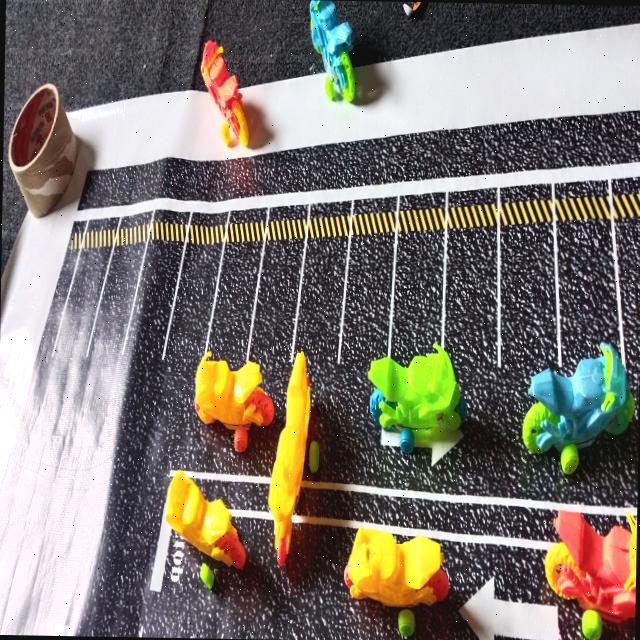bikes: (522, 342, 634, 474), (545, 510, 637, 640), (344, 527, 449, 637), (268, 351, 320, 565), (368, 343, 467, 453), (165, 470, 245, 589), (194, 351, 274, 451), (201, 40, 248, 146), (309, 0, 355, 102)
others: (7, 84, 76, 217), (402, 2, 421, 17)
slots: (500, 224, 558, 394), (557, 219, 620, 373), (340, 232, 393, 393), (122, 240, 182, 381), (444, 226, 497, 379), (165, 245, 220, 391), (250, 239, 303, 386), (50, 246, 111, 368), (295, 235, 346, 380), (391, 230, 442, 363), (209, 242, 261, 368), (91, 242, 144, 355)
